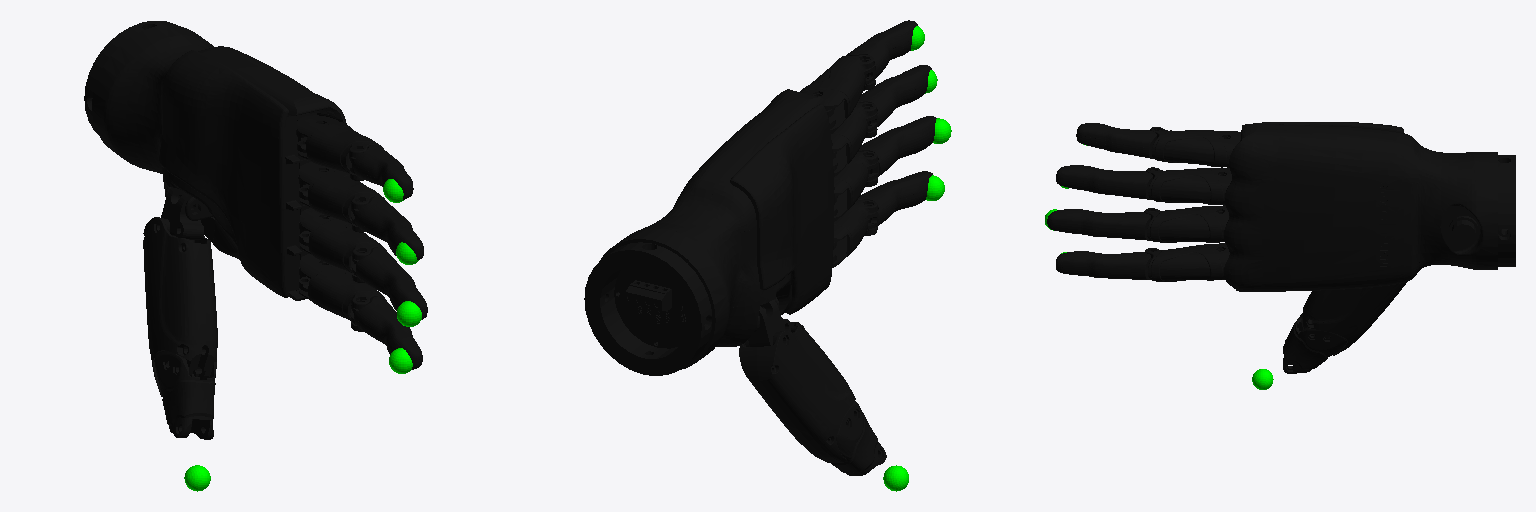
The robot description file, URDF, robot "h1":
<robot
  name="h1">

  <mujoco>
    <compiler meshdir="./meshes" discardvisual="false" />
  </mujoco>


  <!-- [CAUTION] uncomment when convert to mujoco -->
  <!-- <link name="world"></link>
  <joint name="floating_base_joint" type="floating">
    <parent link="world" />
    <child link="pelvis" />
  </joint> -->

  <link name="R_hand_base_link">
    <inertial>
      <origin
        xyz="-0.0025264 -0.066047 0.0019598"
        rpy="0 0 0" />
      <mass
        value="0.14143" />
      <inertia
        ixx="0.00012281"
        ixy="2.1711E-06"
        ixz="1.7709E-06"
        iyy="8.3832E-05"
        iyz="-1.6551E-06"
        izz="7.6663E-05" />
    </inertial>
    <visual>
      <origin
        xyz="0 0 0"
        rpy="0 0 0" />
      <geometry>
        <mesh filename="./meshes/R_hand_base_link.obj" />
      </geometry>
      <material name="">
        <color rgba="0.1 0.1 0.1 1" />
      </material>
    </visual>
    <collision>
      <origin
        xyz="0 0 0"
        rpy="0 0 0" />
      <geometry>
        <mesh filename="./meshes/R_hand_base_link.obj" />
      </geometry>
    </collision>
  </link>

  <link name="R_thumb_proximal_base">
    <inertial>
      <origin
        xyz="-0.0048064 0.0009382 -0.00757"
        rpy="0 0 0" />
      <mass
        value="0.0018869" />
      <inertia
        ixx="5.816E-08"
        ixy="1.4539E-08"
        ixz="4.491E-09"
        iyy="7.9161E-08"
        iyz="-1.8727E-09"
        izz="6.7433E-08" />
    </inertial>
    <visual>
      <origin
        xyz="0 0 0"
        rpy="0 0 0" />
      <geometry>
        <mesh filename="./meshes/Link11_R.obj" />
      </geometry>
      <material name="">
        <color rgba="0.1 0.1 0.1 1" />
      </material>
    </visual>
    <collision>
      <origin
        xyz="0 0 0"
        rpy="0 0 0" />
      <geometry>
        <mesh filename="./meshes/Link11_R.obj" />
      </geometry>
    </collision>
  </link>

  <joint
    name="R_thumb_proximal_yaw_joint"
    type="revolute">
    <origin
      xyz="-0.01696 -0.0691 -0.02045"
      rpy="1.5708 -1.5708 0" />
    <parent
      link="R_hand_base_link" />
    <child
      link="R_thumb_proximal_base" />
    <axis
      xyz="0 0 -1" />
    <limit
      lower="-0.1"
      upper="1.3"
      effort="1"
      velocity="0.5" />
  </joint>

  <link name="R_thumb_proximal">
    <inertial>
      <origin
        xyz="0.021932 0.012785 -0.0080386"
        rpy="0 0 0" />
      <mass
        value="0.0066075" />
      <inertia
        ixx="1.5686E-06"
        ixy="-7.8296E-07"
        ixz="8.9143E-10"
        iyy="1.7353E-06"
        iyz="-1.0191E-09"
        izz="2.786E-06" />
    </inertial>
    <visual>
      <origin
        xyz="0 0 0"
        rpy="0 0 0" />
      <geometry>
        <mesh filename="./meshes/Link12_R.obj" />
      </geometry>
      <material name="">
        <color rgba="0.1 0.1 0.1 1" />
      </material>
    </visual>
    <collision>
      <origin
        xyz="0 0 0"
        rpy="0 0 0" />
      <geometry>
        <mesh filename="./meshes/Link12_R.obj" />
      </geometry>
    </collision>
  </link>

  <joint
    name="R_thumb_proximal_pitch_joint"
    type="revolute">
    <origin
      xyz="-0.0088099 0.010892 -0.00925"
      rpy="1.5708 0 2.8587" />
    <parent
      link="R_thumb_proximal_base" />
    <child
      link="R_thumb_proximal" />
    <axis
      xyz="0 0 1" />
    <limit
      lower="0.0"
      upper="0.5"
      effort="1"
      velocity="0.5" />
  </joint>

  <link name="R_thumb_intermediate">
    <inertial>
      <origin
        xyz="0.0095544 -0.0016282 -0.0071997"
        rpy="0 0 0" />
      <mass
        value="0.0037847" />
      <inertia
        ixx="3.6981E-07"
        ixy="-9.8581E-08"
        ixz="-4.7469E-12"
        iyy="3.2394E-07"
        iyz="1.0939E-12"
        izz="4.6531E-07" />
    </inertial>
    <visual>
      <origin
        xyz="0 0 0"
        rpy="0 0 0" />
      <geometry>
        <mesh filename="./meshes/Link13_R.obj" />
      </geometry>
      <material name="">
        <color rgba="0.1 0.1 0.1 1" />
      </material>
    </visual>
    <collision>
      <origin
        xyz="0 0 0"
        rpy="0 0 0" />
      <geometry>
        <mesh filename="./meshes/Link13_R.obj" />
      </geometry>
    </collision>
  </link>

  <joint
    name="R_thumb_intermediate_joint"
    type="revolute">
    <origin
      xyz="0.04407 0.034553 -0.0008"
      rpy="0 0 0" />
    <parent
      link="R_thumb_proximal" />
    <child
      link="R_thumb_intermediate" />
    <axis
      xyz="0 0 1" />
    <limit
      lower="0"
      upper="0.8"
      effort="1"
      velocity="0.5" />
    <mimic 
      joint="R_thumb_proximal_pitch_joint"
      multiplier="1.6"
      offset="0" />
  </joint>

  <link name="R_thumb_distal">
    <inertial>
      <origin
        xyz="0.0092888 0.0049529 -0.0060033"
        rpy="0 0 0" />
      <mass
        value="0.0033441" />
      <inertia
        ixx="1.3632E-07"
        ixy="-5.6788E-08"
        ixz="-9.2764E-11"
        iyy="1.4052E-07"
        iyz="-1.2283E-10"
        izz="2.0026E-07" />
    </inertial>
    <visual>
      <origin
        xyz="0 0 0"
        rpy="0 0 0" />
      <geometry>
        <mesh filename="./meshes/Link14_R.obj" />
      </geometry>
      <material name="">
        <color rgba="0.1 0.1 0.1 1" />
      </material>
    </visual>
    <collision>
      <origin
        xyz="0 0 0"
        rpy="0 0 0" />
      <geometry>
        <mesh filename="./meshes/Link14_R.obj" />
      </geometry>
    </collision>
  </link>

  <joint
    name="R_thumb_distal_joint"
    type="revolute">
    <origin
      xyz="0.020248 0.010156 -0.0012"
      rpy="0 0 0" />
    <parent
      link="R_thumb_intermediate" />
    <child
      link="R_thumb_distal" />
    <axis
      xyz="0 0 1" />
    <limit
      lower="0"
      upper="1.2"
      effort="1"
      velocity="0.5" />
    <mimic 
      joint="R_thumb_proximal_pitch_joint"
      multiplier="2.4"
      offset="0" />
  </joint>

  <link name="R_thumb_tip">
    <visual>
      <origin
        xyz="0 0 0"
        rpy="0 0 0" />
      <geometry>
        <sphere radius="0.005"/>
      </geometry>
      <material name="green">
        <color rgba="0 1 0 1" />
      </material>
    </visual>
  </link>
  <joint name="R_thumb_tip_joint" type="fixed">
    <parent link="R_thumb_distal"/>
    <child link="R_thumb_tip"/>
    <origin rpy="0 0 0" xyz="0.015 0.013 -0.004"/>
  </joint>

  <link name="R_index_proximal">
    <inertial>
      <origin
        xyz="0.0012259 0.011942 -0.0060001"
        rpy="0 0 0" />
      <mass
        value="0.0042403" />
      <inertia
        ixx="6.6232E-07"
        ixy="-1.5775E-08"
        ixz="1.8515E-12"
        iyy="2.1146E-07"
        iyz="-5.0828E-12"
        izz="6.9398E-07" />
    </inertial>
    <visual>
      <origin
        xyz="0 0 0"
        rpy="0 0 0" />
      <geometry>
        <mesh filename="./meshes/Link15_R.obj" />
      </geometry>
      <material name="">
        <color rgba="0.1 0.1 0.1 1" />
      </material>
    </visual>
    <collision>
      <origin
        xyz="0 0 0"
        rpy="0 0 0" />
      <geometry>
        <mesh filename="./meshes/Link15_R.obj" />
      </geometry>
    </collision>
  </link>

  <joint
    name="R_index_proximal_joint"
    type="revolute">
    <origin
      xyz="0.00028533 -0.13653 -0.032268"
      rpy="-3.1067 0 0" />
    <parent
      link="R_hand_base_link" />
    <child
      link="R_index_proximal" />
    <axis
      xyz="0 0 1" />
    <limit
      lower="0"
      upper="1.7"
      effort="1"
      velocity="0.5" />
  </joint>

  <link name="R_index_intermediate">
    <inertial>
      <origin
        xyz="0.0019697 0.019589 -0.005"
        rpy="0 0 0" />
      <mass
        value="0.0045683" />
      <inertia
        ixx="7.6111E-07"
        ixy="8.7637E-08"
        ixz="-3.7751E-13"
        iyy="9.6076E-08"
        iyz="9.9444E-13"
        izz="7.8179E-07" />
    </inertial>
    <visual>
      <origin
        xyz="0 0 0"
        rpy="0 0 0" />
      <geometry>
        <mesh filename="./meshes/Link16_R.obj" />
      </geometry>
      <material name="">
        <color rgba="0.1 0.1 0.1 1" />
      </material>
    </visual>
    <collision>
      <origin
        xyz="0 0 0"
        rpy="0 0 0" />
      <geometry>
        <mesh filename="./meshes/Link16_R.obj" />
      </geometry>
    </collision>
  </link>

  <joint
    name="R_index_intermediate_joint"
    type="revolute">
    <origin
      xyz="-0.0026138 0.032026 -0.001"
      rpy="0 0 0" />
    <parent
      link="R_index_proximal" />
    <child
      link="R_index_intermediate" />
    <axis
      xyz="0 0 1" />
    <limit
      lower="0"
      upper="1.7"
      effort="1"
      velocity="0.5" />
    <mimic 
      joint="R_index_proximal_joint"
      multiplier="1"
      offset="0" />
  </joint>

  <link name="R_index_tip">
    <visual>
      <origin
        xyz="0 0 0"
        rpy="0 0 0" />
      <geometry>
        <sphere radius="0.005"/>
      </geometry>
      <material name="green">
        <color rgba="0 1 0 1" />
      </material>
    </visual>
  </link>
  <joint name="R_index_tip_joint" type="fixed">
    <parent link="R_index_intermediate"/>
    <child link="R_index_tip"/>
    <origin rpy="0 0 0" xyz="-0.005 0.04 -0.004"/>
  </joint>

  <link name="R_middle_proximal">
    <inertial>
      <origin
        xyz="0.001297 0.011934 -0.0060001"
        rpy="0 0 0" />
      <mass
        value="0.0042403" />
      <inertia
        ixx="6.6211E-07"
        ixy="-1.8461E-08"
        ixz="1.8002E-12"
        iyy="2.1167E-07"
        iyz="-6.6808E-12"
        izz="6.9397E-07" />
    </inertial>
    <visual>
      <origin
        xyz="0 0 0"
        rpy="0 0 0" />
      <geometry>
        <mesh filename="./meshes/Link17_R.obj" />
      </geometry>
      <material name="">
        <color rgba="0.1 0.1 0.1 1" />
      </material>
    </visual>
    <collision>
      <origin
        xyz="0 0 0"
        rpy="0 0 0" />
      <geometry>
        <mesh filename="./meshes/Link17_R.obj" />
      </geometry>
    </collision>
  </link>

  <joint
    name="R_middle_proximal_joint"
    type="revolute">
    <origin
      xyz="0.00028533 -0.1371 -0.01295"
      rpy="-3.1416 0 0" />
    <parent
      link="R_hand_base_link" />
    <child
      link="R_middle_proximal" />
    <axis
      xyz="0 0 1" />
    <limit
      lower="0"
      upper="1.7"
      effort="1"
      velocity="0.5" />
  </joint>

  <link name="R_middle_intermediate">
    <inertial>
      <origin
        xyz="0.001921 0.020796 -0.005"
        rpy="0 0 0" />
      <mass
        value="0.0050396" />
      <inertia
        ixx="9.5822E-07"
        ixy="1.1425E-07"
        ixz="-2.4791E-12"
        iyy="1.0646E-07"
        iyz="5.9173E-12"
        izz="9.8384E-07" />
    </inertial>
    <visual>
      <origin
        xyz="0 0 0"
        rpy="0 0 0" />
      <geometry>
        <mesh filename="./meshes/Link18_R.obj" />
      </geometry>
      <material name="">
        <color rgba="0.1 0.1 0.1 1" />
      </material>
    </visual>
    <collision>
      <origin
        xyz="0 0 0"
        rpy="0 0 0" />
      <geometry>
        <mesh filename="./meshes/Link18_R.obj" />
      </geometry>
    </collision>
  </link>

  <joint
    name="R_middle_intermediate_joint"
    type="revolute">
    <origin
      xyz="-0.0024229 0.032041 -0.001"
      rpy="0 0 0" />
    <parent
      link="R_middle_proximal" />
    <child
      link="R_middle_intermediate" />
    <axis
      xyz="0 0 1" />
    <limit
      lower="0"
      upper="1.7"
      effort="1"
      velocity="0.5" />
    <mimic 
      joint="R_middle_proximal_joint"
      multiplier="1"
      offset="0" />
  </joint>

  <link name="R_middle_tip">
    <visual>
      <origin
        xyz="0 0 0"
        rpy="0 0 0" />
      <geometry>
        <sphere radius="0.005"/>
      </geometry>
      <material name="green">
        <color rgba="0 1 0 1" />
      </material>
    </visual>
  </link>
  <joint name="R_middle_tip_joint" type="fixed">
    <parent link="R_middle_intermediate"/>
    <child link="R_middle_tip"/>
    <origin rpy="0 0 0" xyz="-0.005 0.045 -0.004"/>
  </joint>

  <link name="R_ring_proximal">
    <inertial>
      <origin
        xyz="0.001297 0.011934 -0.0060002"
        rpy="0 0 0" />
      <mass
        value="0.0042403" />
      <inertia
        ixx="6.6211E-07"
        ixy="-1.8461E-08"
        ixz="1.5793E-12"
        iyy="2.1167E-07"
        iyz="-6.6868E-12"
        izz="6.9397E-07" />
    </inertial>
    <visual>
      <origin
        xyz="0 0 0"
        rpy="0 0 0" />
      <geometry>
        <mesh filename="./meshes/Link19_R.obj" />
      </geometry>
      <material name="">
        <color rgba="0.1 0.1 0.1 1" />
      </material>
    </visual>
    <collision>
      <origin
        xyz="0 0 0"
        rpy="0 0 0" />
      <geometry>
        <mesh filename="./meshes/Link19_R.obj" />
      </geometry>
    </collision>
  </link>

  <joint
    name="R_ring_proximal_joint"
    type="revolute">
    <origin
      xyz="0.00028533 -0.13691 0.0062872"
      rpy="3.0892 0 0" />
    <parent
      link="R_hand_base_link" />
    <child
      link="R_ring_proximal" />
    <axis
      xyz="0 0 1" />
    <limit
      lower="0"
      upper="1.7"
      effort="1"
      velocity="0.5" />
  </joint>

  <link name="R_ring_intermediate">
    <inertial>
      <origin
        xyz="0.0021753 0.019567 -0.005"
        rpy="0 0 0" />
      <mass
        value="0.0045683" />
      <inertia
        ixx="7.6286E-07"
        ixy="8.0635E-08"
        ixz="-6.1562E-13"
        iyy="9.431E-08"
        iyz="5.8619E-13"
        izz="7.8177E-07" />
    </inertial>
    <visual>
      <origin
        xyz="0 0 0"
        rpy="0 0 0" />
      <geometry>
        <mesh filename="./meshes/Link20_R.obj" />
      </geometry>
      <material name="">
        <color rgba="0.1 0.1 0.1 1" />
      </material>
    </visual>
    <collision>
      <origin
        xyz="0 0 0"
        rpy="0 0 0" />
      <geometry>
        <mesh filename="./meshes/Link20_R.obj" />
      </geometry>
    </collision>
  </link>

  <joint
    name="R_ring_intermediate_joint"
    type="revolute">
    <origin
      xyz="-0.0024229 0.032041 -0.001"
      rpy="0 0 0" />
    <parent
      link="R_ring_proximal" />
    <child
      link="R_ring_intermediate" />
    <axis
      xyz="0 0 1" />
    <limit
      lower="0"
      upper="1.7"
      effort="1"
      velocity="0.5" />
    <mimic 
      joint="R_ring_proximal_joint"
      multiplier="1"
      offset="0" />
  </joint>

  <link name="R_ring_tip">
    <visual>
      <origin
        xyz="0 0 0"
        rpy="0 0 0" />
      <geometry>
        <sphere radius="0.005"/>
      </geometry>
      <material name="green">
        <color rgba="0 1 0 1" />
      </material>
    </visual>
  </link>
  <joint name="R_ring_tip_joint" type="fixed">
    <parent link="R_ring_intermediate"/>
    <child link="R_ring_tip"/>
    <origin rpy="0 0 0" xyz="-0.002 0.04 -0.004"/>
  </joint>

  <link name="R_pinky_proximal">
    <inertial>
      <origin
        xyz="0.001297 0.011934 -0.0060001"
        rpy="0 0 0" />
      <mass
        value="0.0042403" />
      <inertia
        ixx="6.6211E-07"
        ixy="-1.8461E-08"
        ixz="1.6907E-12"
        iyy="2.1167E-07"
        iyz="-6.9334E-12"
        izz="6.9397E-07" />
    </inertial>
    <visual>
      <origin
        xyz="0 0 0"
        rpy="0 0 0" />
      <geometry>
        <mesh filename="./meshes/Link21_R.obj" />
      </geometry>
      <material name="">
        <color rgba="0.1 0.1 0.1 1" />
      </material>
    </visual>
    <collision>
      <origin
        xyz="0 0 0"
        rpy="0 0 0" />
      <geometry>
        <mesh filename="./meshes/Link21_R.obj" />
      </geometry>
    </collision>
  </link>

  <joint
    name="R_pinky_proximal_joint"
    type="revolute">
    <origin
      xyz="0.00028533 -0.13571 0.025488"
      rpy="3.0369 0 0" />
    <parent
      link="R_hand_base_link" />
    <child
      link="R_pinky_proximal" />
    <axis
      xyz="0 0 1" />
    <limit
      lower="0"
      upper="1.7"
      effort="1"
      velocity="0.5" />
  </joint>

  <link name="R_pinky_intermediate">
    <inertial>
      <origin
        xyz="0.0024748 0.016203 -0.0050031"
        rpy="0 0 0" />
      <mass
        value="0.0035996" />
      <inertia
        ixx="4.3913E-07"
        ixy="4.1418E-08"
        ixz="3.7168E-11"
        iyy="7.0247E-08"
        iyz="5.8613E-11"
        izz="4.4867E-07" />
    </inertial>
    <visual>
      <origin
        xyz="0 0 0"
        rpy="0 0 0" />
      <geometry>
        <mesh filename="./meshes/Link22_R.obj" />
      </geometry>
      <material name="">
        <color rgba="0.1 0.1 0.1 1" />
      </material>
    </visual>
    <collision>
      <origin
        xyz="0 0 0"
        rpy="0 0 0" />
      <geometry>
        <mesh filename="./meshes/Link22_R.obj" />
      </geometry>
    </collision>
  </link>

  <joint
    name="R_pinky_intermediate_joint"
    type="revolute">
    <origin
      xyz="-0.0024229 0.032041 -0.001"
      rpy="0 0 0" />
    <parent
      link="R_pinky_proximal" />
    <child
      link="R_pinky_intermediate" />
    <axis
      xyz="0 0 1" />
    <limit
      lower="0"
      upper="1.7"
      effort="1"
      velocity="0.5" />
    <mimic 
      joint="R_pinky_proximal_joint"
      multiplier="1"
      offset="0" />
  </joint>

  <link name="R_pinky_tip">
    <visual>
      <origin
        xyz="0 0 0"
        rpy="0 0 0" />
      <geometry>
        <sphere radius="0.005"/>
      </geometry>
      <material name="green">
        <color rgba="0 1 0 1" />
      </material>
    </visual>
  </link>
  <joint name="R_pinky_tip_joint" type="fixed">
    <parent link="R_pinky_intermediate"/>
    <child link="R_pinky_tip"/>
    <origin rpy="0 0 0" xyz="-0.002 0.032 -0.004"/>
  </joint>
</robot>

--- What the picture shows (computed from the rendered views, not written in the file) ---
The picture shows the robot from 3 angles, left to right: view 1: azimuth 30°, elevation 25°; view 2: azimuth 150°, elevation 25°; view 3: azimuth 270°, elevation 25°; orthographic projection.
Model h1 with 18 links and 17 joints (12 revolute, 5 fixed), rooted at R_hand_base_link, posed all joints at 0.
Links seen in each view (by area): view 1: R_hand_base_link, R_thumb_proximal, R_thumb_intermediate, R_middle_proximal, R_index_proximal, R_ring_proximal, R_pinky_proximal, R_middle_intermediate, R_index_intermediate, R_ring_intermediate, R_pinky_intermediate, R_thumb_proximal_base (+1 smaller); view 2: R_hand_base_link, R_thumb_proximal, R_pinky_proximal, R_thumb_intermediate, R_middle_intermediate, R_ring_intermediate, R_index_intermediate, R_pinky_intermediate, R_ring_proximal, R_index_proximal, R_middle_proximal, R_thumb_proximal_base (+1 smaller); view 3: R_hand_base_link, R_thumb_proximal, R_pinky_proximal, R_ring_proximal, R_middle_proximal, R_index_proximal, R_middle_intermediate, R_ring_intermediate, R_index_intermediate, R_thumb_intermediate, R_pinky_intermediate.
Link boxes in pixels (<box>): R_hand_base_link: <box>84,21,346,300</box>; R_thumb_proximal: <box>143,217,217,396</box>; R_thumb_intermediate: <box>154,350,216,439</box>; R_middle_proximal: <box>300,208,386,282</box>; R_index_proximal: <box>299,254,386,331</box>; R_ring_proximal: <box>299,162,384,232</box>; R_pinky_proximal: <box>297,115,383,180</box>; R_middle_intermediate: <box>352,248,427,319</box>; R_index_intermediate: <box>351,297,422,369</box>; R_ring_intermediate: <box>351,197,423,259</box>; R_pinky_intermediate: <box>349,145,413,199</box>; R_thumb_proximal_base: <box>161,187,203,239</box>; R_hand_base_link: <box>584,89,837,375</box>; R_thumb_proximal: <box>739,322,855,462</box>; R_pinky_proximal: <box>800,55,875,133</box>; R_thumb_intermediate: <box>831,401,886,475</box>; R_middle_intermediate: <box>858,116,936,180</box>; R_ring_intermediate: <box>858,65,931,132</box>; R_index_intermediate: <box>858,171,932,229</box>; R_pinky_intermediate: <box>846,20,917,84</box>; R_ring_proximal: <box>831,102,877,176</box>; R_index_proximal: <box>832,200,877,267</box>; R_middle_proximal: <box>834,151,877,221</box>; R_thumb_proximal_base: <box>748,300,790,346</box>; R_hand_base_link: <box>1224,122,1515,291</box>; R_thumb_proximal: <box>1303,282,1406,355</box>; R_pinky_proximal: <box>1150,127,1240,167</box>; R_ring_proximal: <box>1146,167,1231,204</box>; R_middle_proximal: <box>1144,205,1228,242</box>; R_index_proximal: <box>1145,243,1229,281</box>; R_middle_intermediate: <box>1047,209,1150,240</box>; R_ring_intermediate: <box>1056,165,1152,199</box>; R_index_intermediate: <box>1056,251,1151,279</box>; R_thumb_intermediate: <box>1283,313,1347,373</box>; R_pinky_intermediate: <box>1076,123,1156,158</box>.
Size in the robot's own frame: 0.0766 by 0.2191 by 0.1554 metres.
12 mesh visuals loaded from 13 distinct referenced files (12 OBJ); not drawn: 1 (file found but could not be loaded).